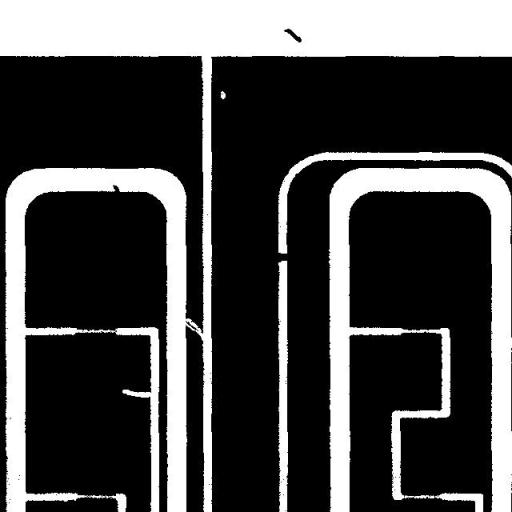copper: (276, 20, 309, 50)
mousebite: (114, 382, 158, 404)
open: (172, 307, 211, 348)
pin-hole: (213, 84, 233, 106)
short: (266, 244, 296, 270)
spur: (105, 177, 128, 204)
